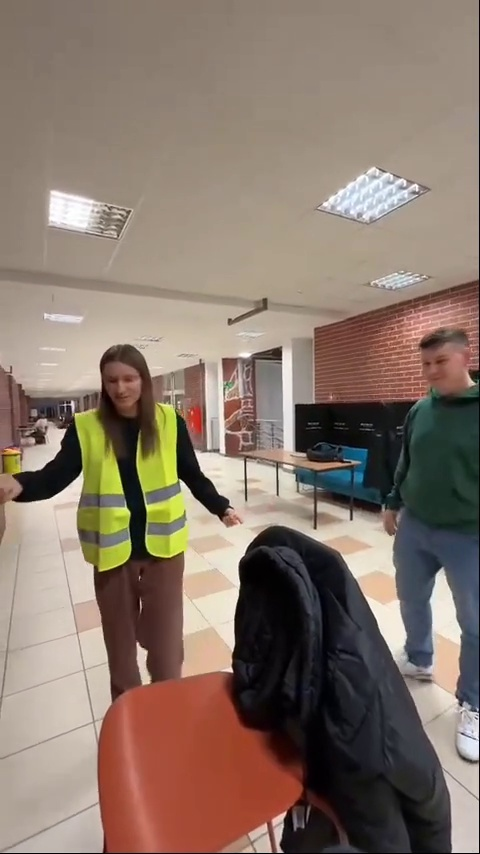no vest: (378, 323, 480, 765)
vest: (66, 340, 236, 685)
